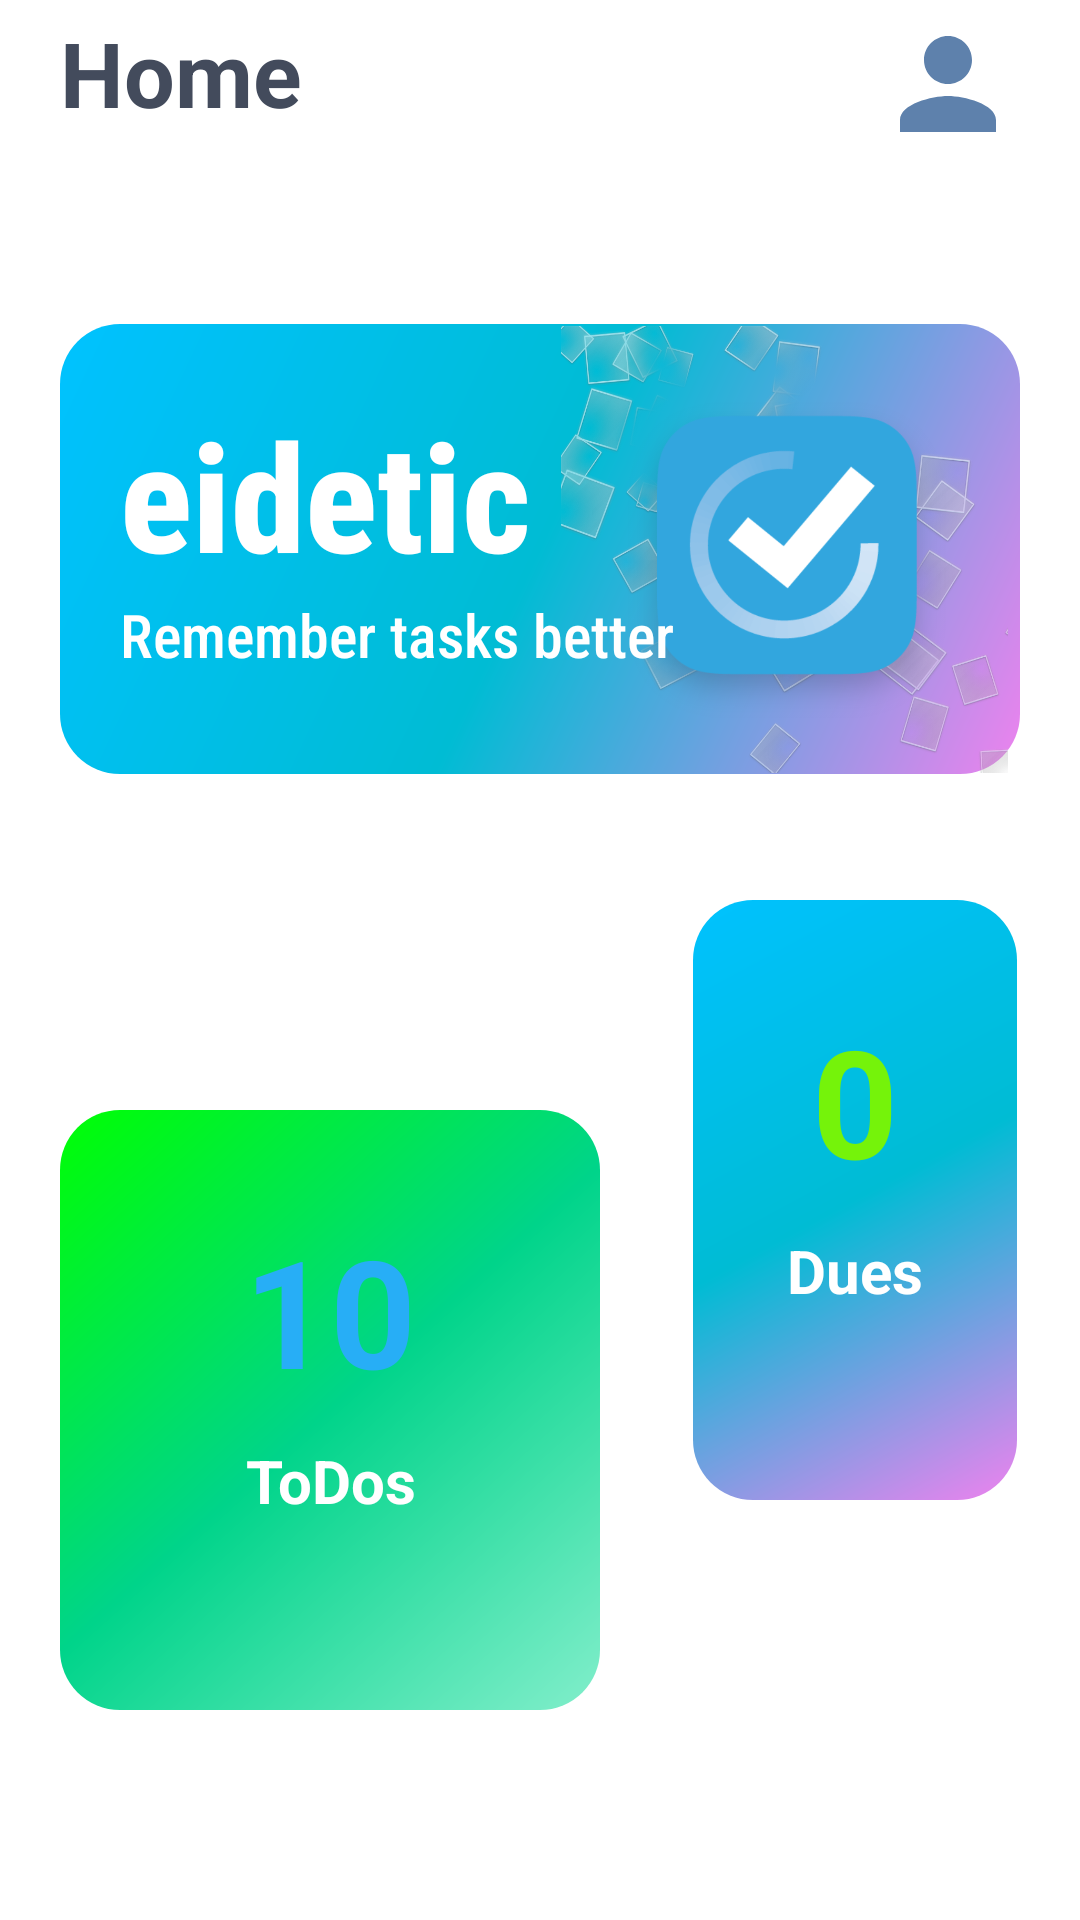

Icon click points for this 1080×1920 phone screenshot, format point (x, y):
person: point (948, 84)
